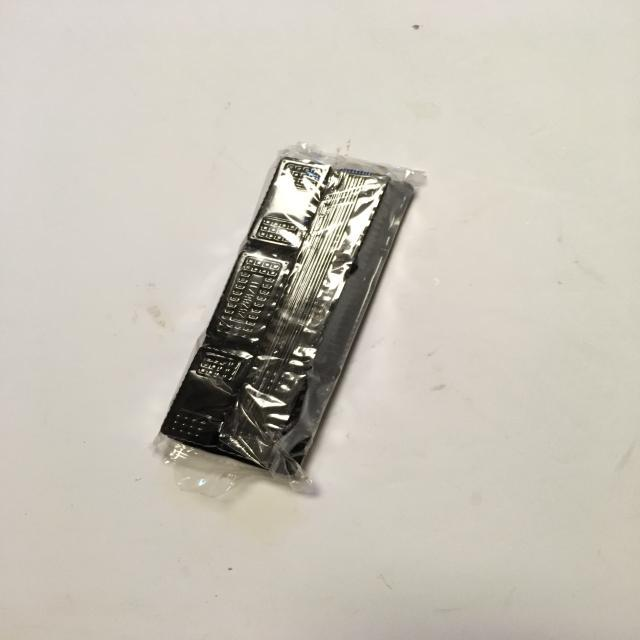plastic: (141, 140, 437, 498)
